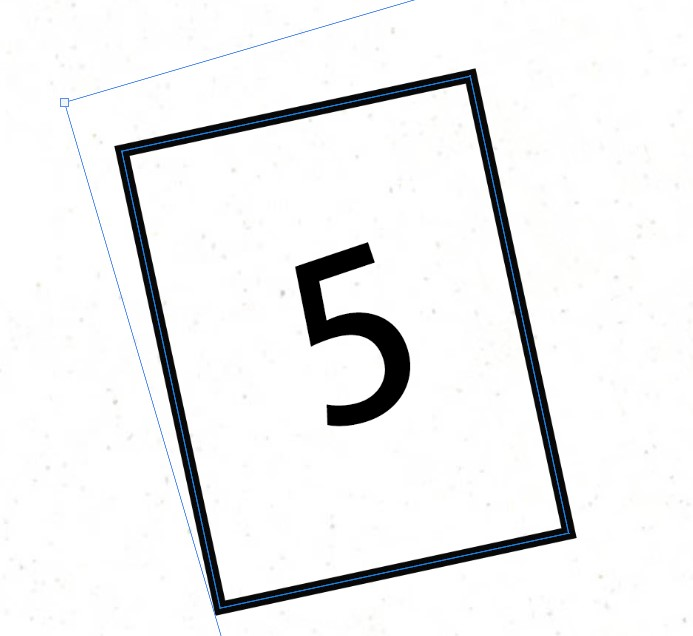five: (256, 219, 448, 454)
